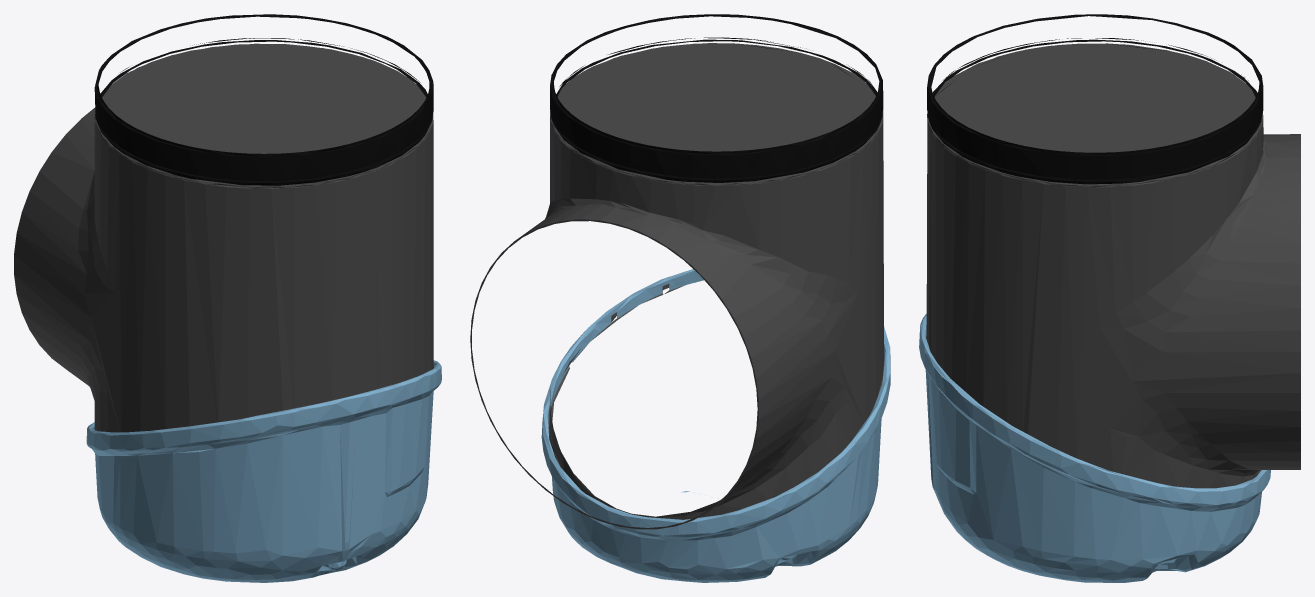
File: wrist2.glb
3 views of the same model, side by side, from view 1: azimuth 30°, elevation 25°; view 2: azimuth 150°, elevation 25°; view 3: azimuth 270°, elevation 25° (orthographic).
Parts seen in each view (by area): view 1: eSeries_UR5e_049, eSeries_UR5e_029, eSeries_UR5e_002; view 2: eSeries_UR5e_049, eSeries_UR5e_029, eSeries_UR5e_002; view 3: eSeries_UR5e_049, eSeries_UR5e_029, eSeries_UR5e_002.
Boxes of the visible parts, left/top/right/bottom form: eSeries_UR5e_049: left=14, top=43, right=434, bottom=432; eSeries_UR5e_029: left=86, top=360, right=441, bottom=582; eSeries_UR5e_002: left=94, top=14, right=433, bottom=185; eSeries_UR5e_049: left=470, top=43, right=884, bottom=529; eSeries_UR5e_029: left=541, top=269, right=890, bottom=582; eSeries_UR5e_002: left=550, top=14, right=883, bottom=182; eSeries_UR5e_049: left=926, top=43, right=1300, bottom=488; eSeries_UR5e_029: left=919, top=314, right=1270, bottom=582; eSeries_UR5e_002: left=927, top=14, right=1263, bottom=184.
Size of the model in its own units: 0.0786 by 0.1099 by 0.0851.
